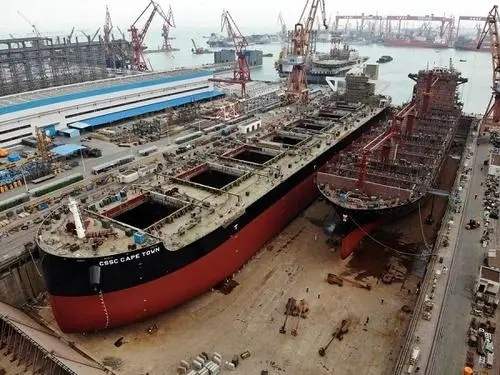Cargoship: (34, 49, 392, 320), (322, 52, 475, 223)
